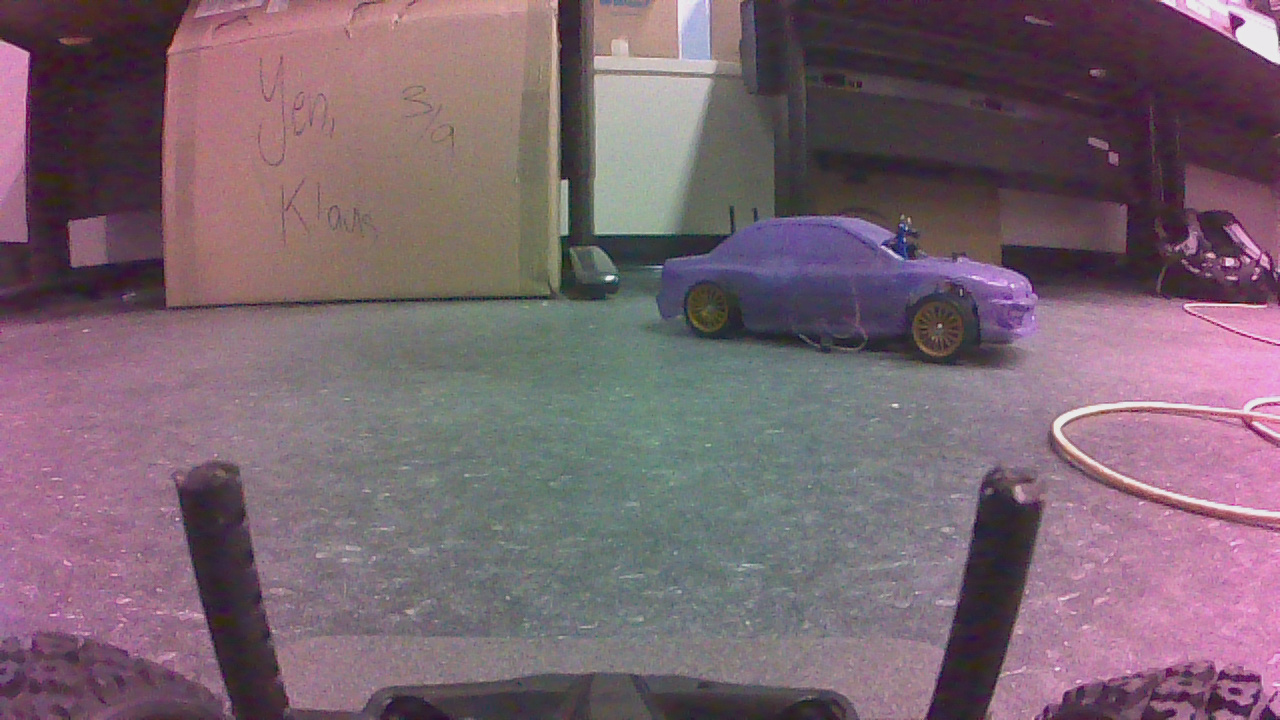opponent: (661, 209, 1045, 364)
